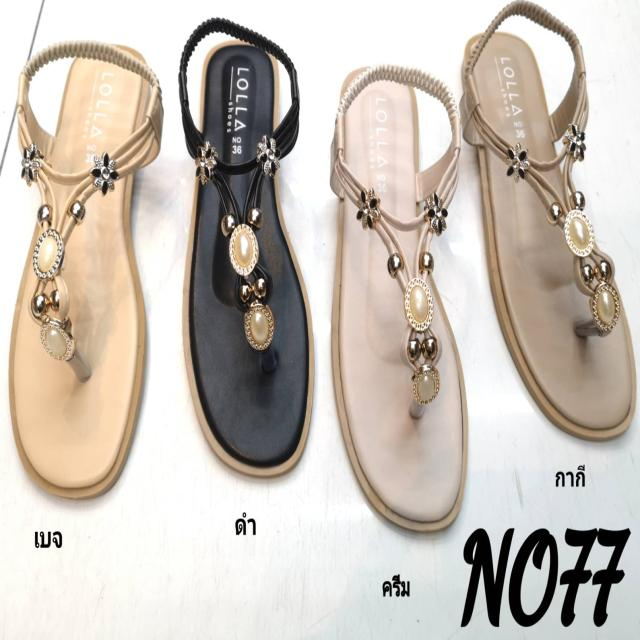bej: (12, 53, 153, 496)
black: (185, 44, 314, 472)
cream: (337, 69, 463, 535)
kakee: (465, 34, 635, 438)
